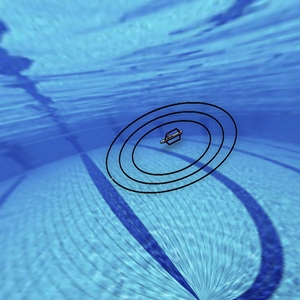circle: (102, 93, 253, 204)
submarine: (158, 126, 187, 152)
